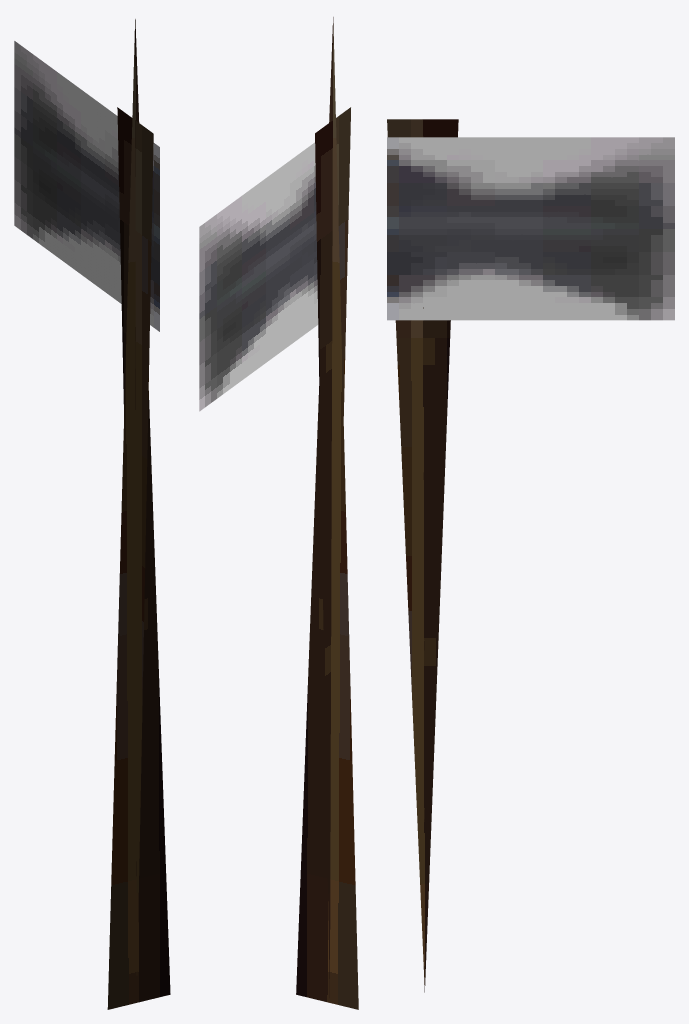
The model's file is attachments_n_axe_2handed_standard.glb.
The picture shows the model from 3 angles, left to right: view 1: azimuth 30°, elevation 25°; view 2: azimuth 150°, elevation 25°; view 3: azimuth 270°, elevation 25°; orthographic projection.
Parts seen in each view (by area): view 1: MeshRoot; view 2: MeshRoot; view 3: MeshRoot.
Boxes of the visible parts, <box> form: MeshRoot: <box>14,19,170,1009</box>; MeshRoot: <box>199,17,358,1009</box>; MeshRoot: <box>387,119,674,992</box>.
Bounding box in the file's own units: 0.1182 × 1.78 × 0.4751.
1 material, 1 textured.
